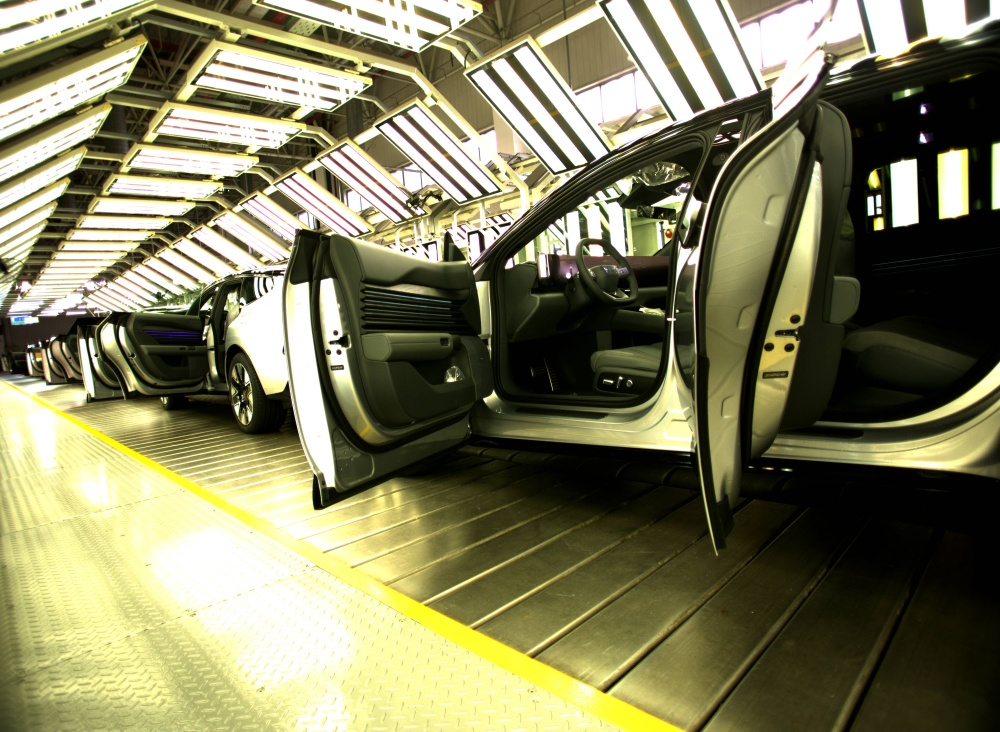armrest_color: (357, 331, 457, 363)
panel_color: (357, 277, 459, 336)
